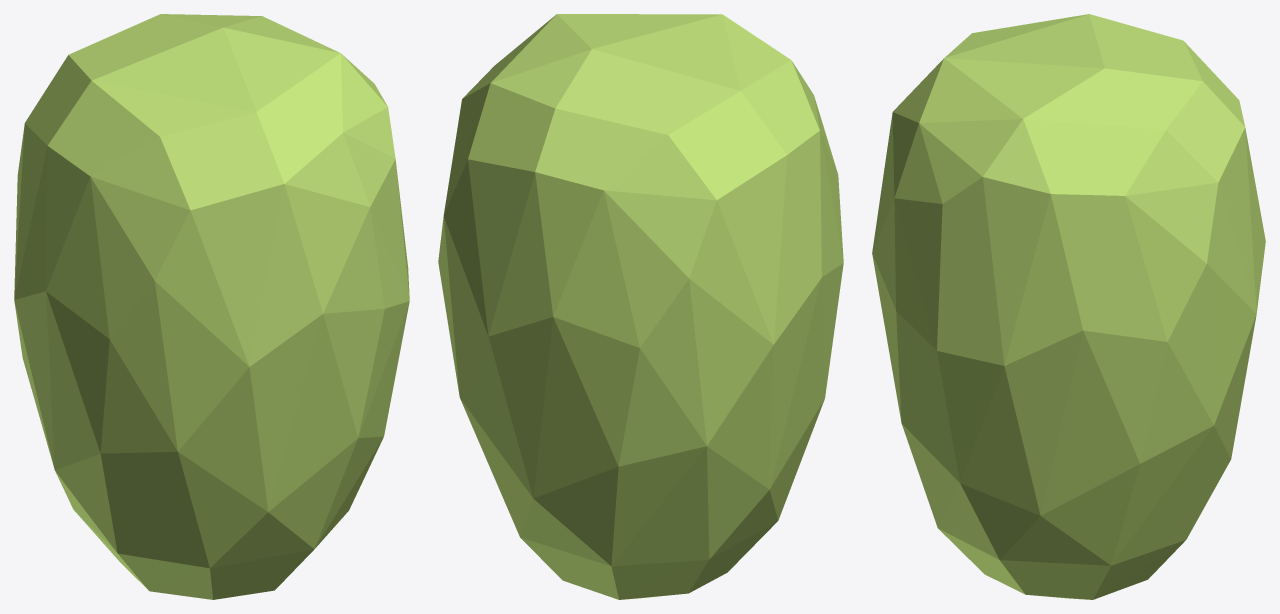
The model's file is Bush_a_m_02.fbx.
3 renders of one model, left to right at view 1: azimuth 30°, elevation 25°; view 2: azimuth 150°, elevation 25°; view 3: azimuth 270°, elevation 25°, orthographic.
Parts seen in each view (by area): view 1: Bush_a_m_02; view 2: Bush_a_m_02; view 3: Bush_a_m_02.
Part boxes in pixels (<box>): Bush_a_m_02: <box>14,14,409,599</box>; Bush_a_m_02: <box>438,14,843,599</box>; Bush_a_m_02: <box>872,14,1265,599</box>.
Size of the model in its own units: 147 by 224 by 147.
